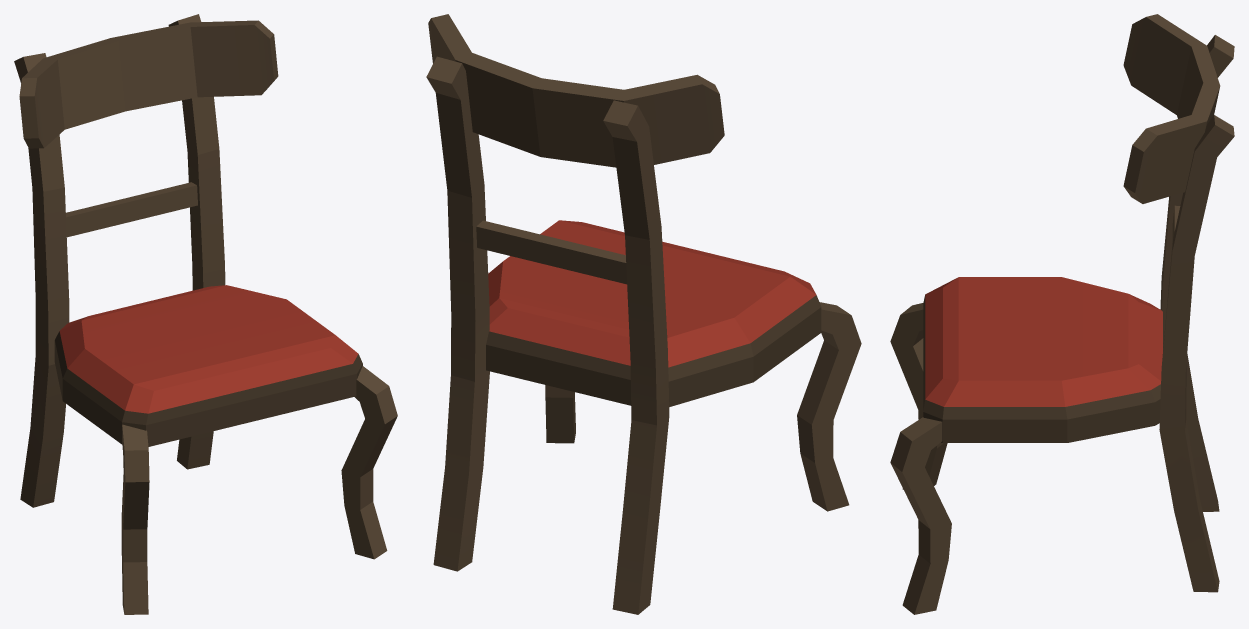
The model's file is SM_Prop_Chair_01.obj.
The picture shows the model from 3 angles, left to right: view 1: azimuth 30°, elevation 25°; view 2: azimuth 150°, elevation 25°; view 3: azimuth 270°, elevation 25°; orthographic projection. The views are drawn at different scales.
Parts seen in each view (by area): view 1: SM_Prop_Chair_01_0; view 2: SM_Prop_Chair_01_0; view 3: SM_Prop_Chair_01_0.
Part boxes in pixels (left/top/right/bottom): SM_Prop_Chair_01_0: left=14, top=14, right=397, bottom=614; SM_Prop_Chair_01_0: left=426, top=14, right=861, bottom=614; SM_Prop_Chair_01_0: left=890, top=14, right=1234, bottom=614.
Bounding box in the file's own units: 0.6542 × 1.03 × 0.6797.
Materials: 1 (1 with a texture image).
